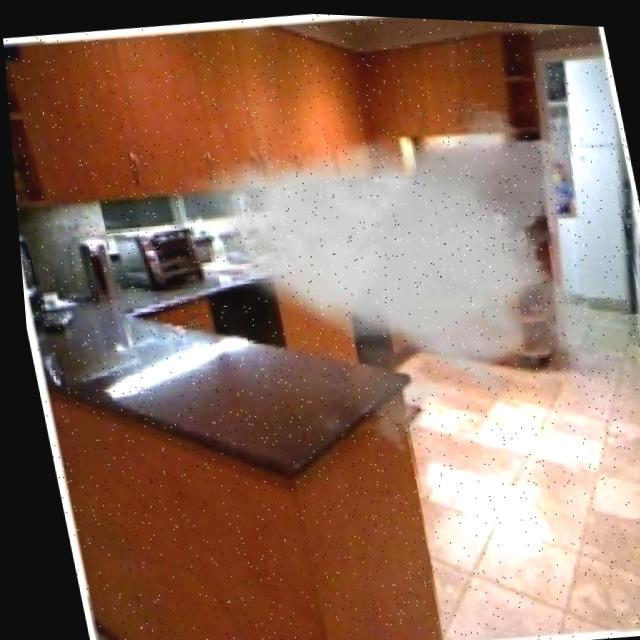Smoke: (167, 75, 548, 388)
